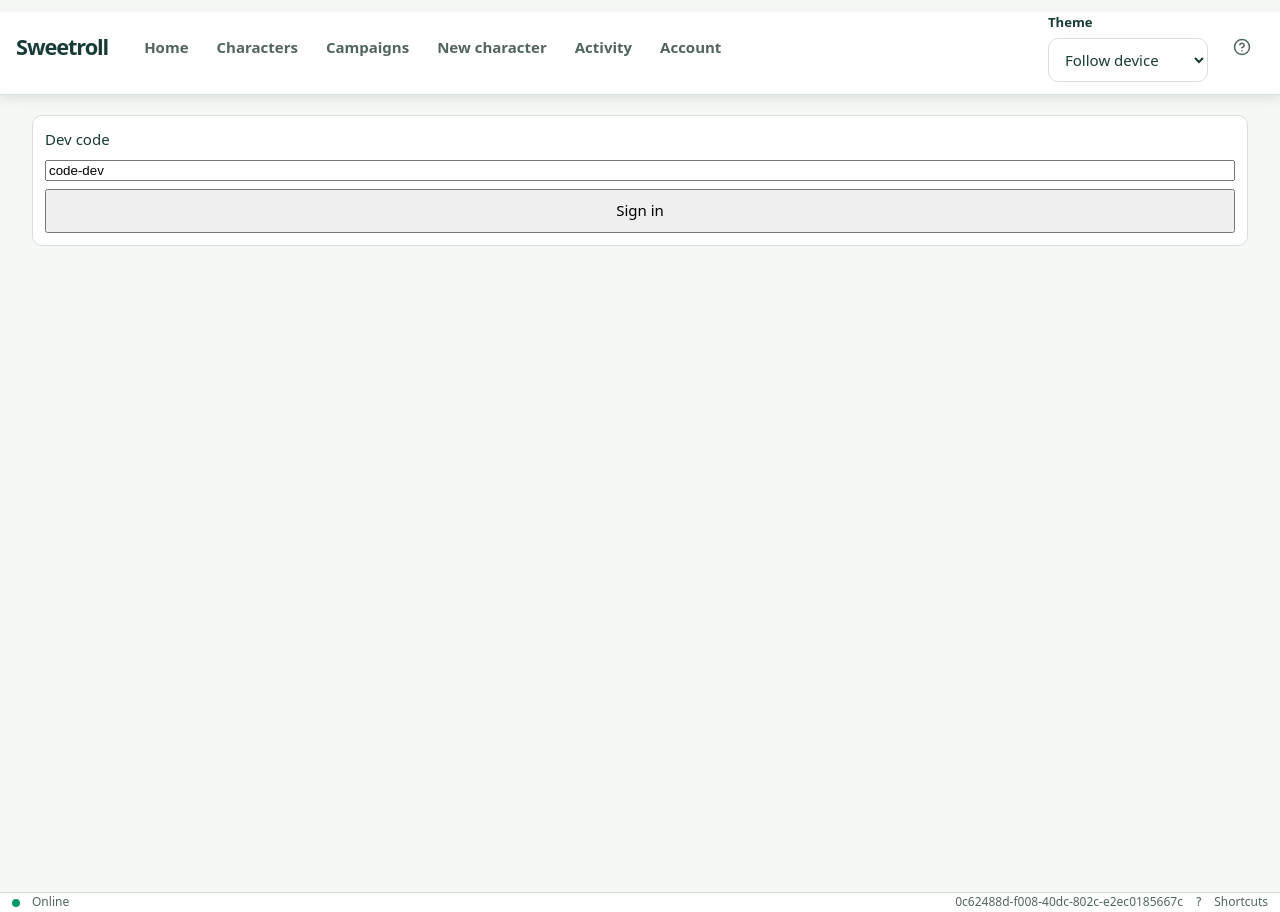
Test case: AppShell › preserves dev sign-in but verifies me instead of inventing an account
Click the button with test id "dev-signin": x=640, y=211 [45,189,1235,233]
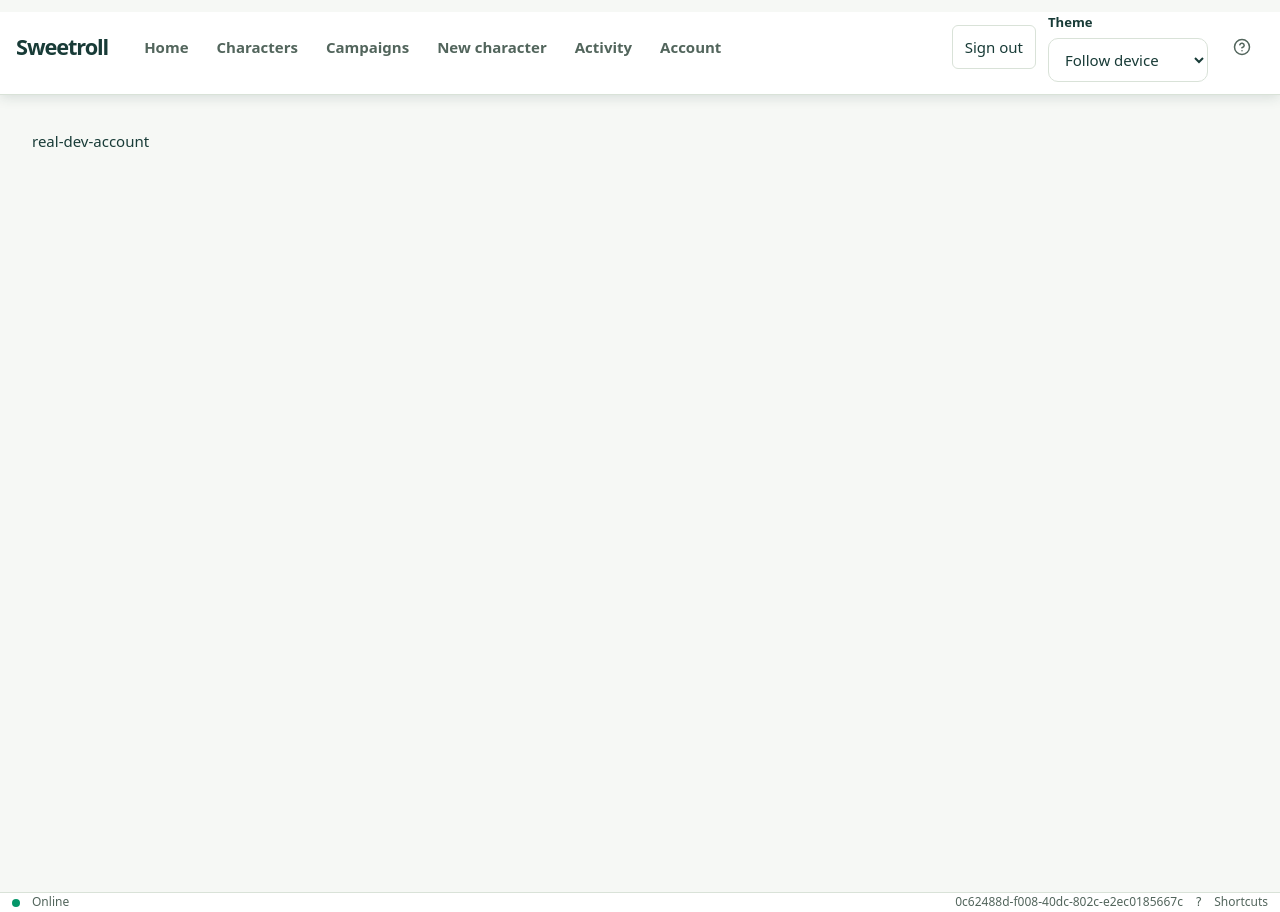
Result: the text "real-dev-account" is shown at [32,131,149,151]
